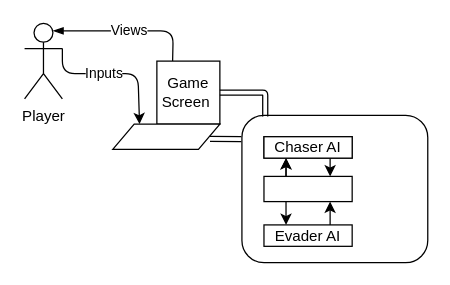
Some shapes in this 450 by 285 pixel diagram are drawn without their labels. Here are the shapes that lost their labels. From the top down, the box of each, then its label:
(112, 123, 220, 149): Keyboard
(263, 175, 352, 202): Game Sim
(241, 114, 428, 263): Computer
